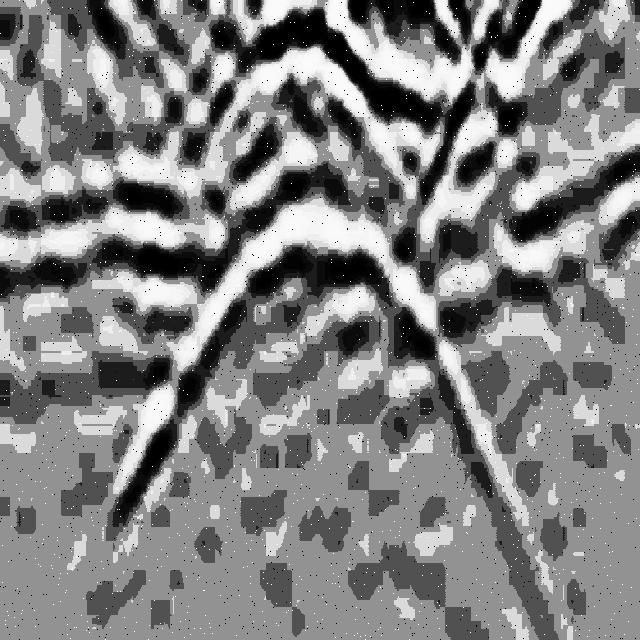hyperbola: (140, 184, 490, 482)
